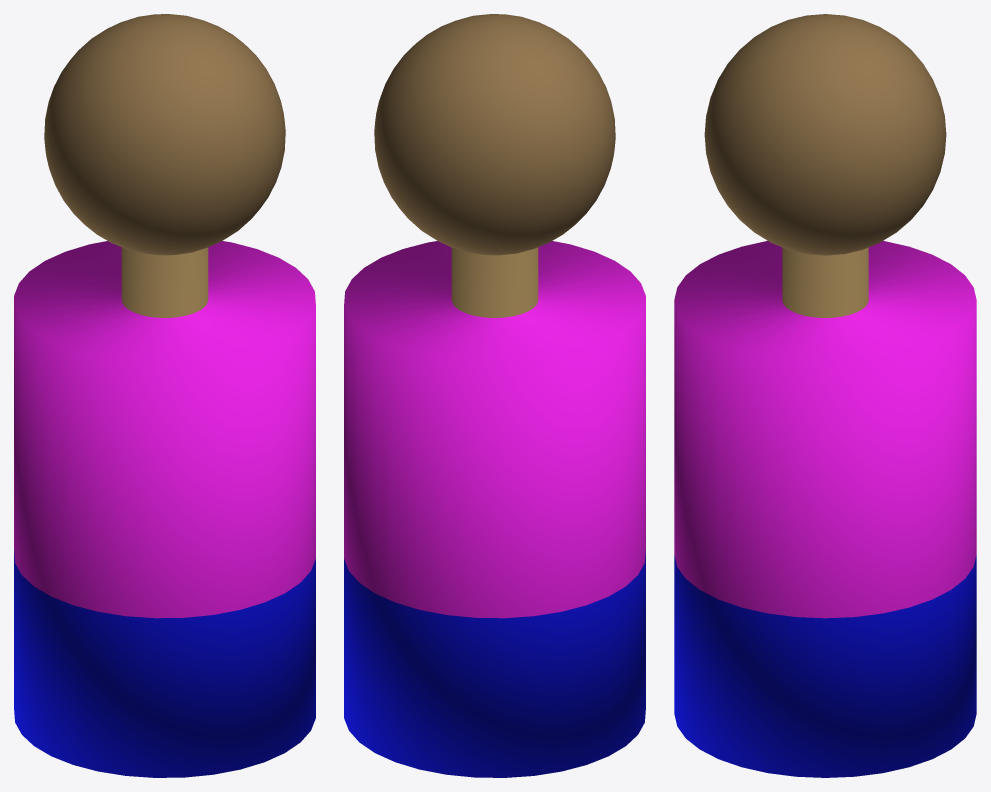
Rendered from Character_07.fbx.
3 renders of one model, left to right at view 1: azimuth 30°, elevation 25°; view 2: azimuth 150°, elevation 25°; view 3: azimuth 270°, elevation 25°, orthographic.
Parts seen in each view (by area): view 1: Circle.003, Icosphere.003; view 2: Circle.003, Icosphere.003; view 3: Circle.003, Icosphere.003.
Boxes of the visible parts, x1,y1,x2,y2 form: Circle.003: (14,241,315,777); Icosphere.003: (44,14,285,255); Circle.003: (344,241,645,777); Icosphere.003: (374,14,615,255); Circle.003: (674,240,976,777); Icosphere.003: (704,14,946,255).
Size of the model in its own units: 200 by 503 by 200.
